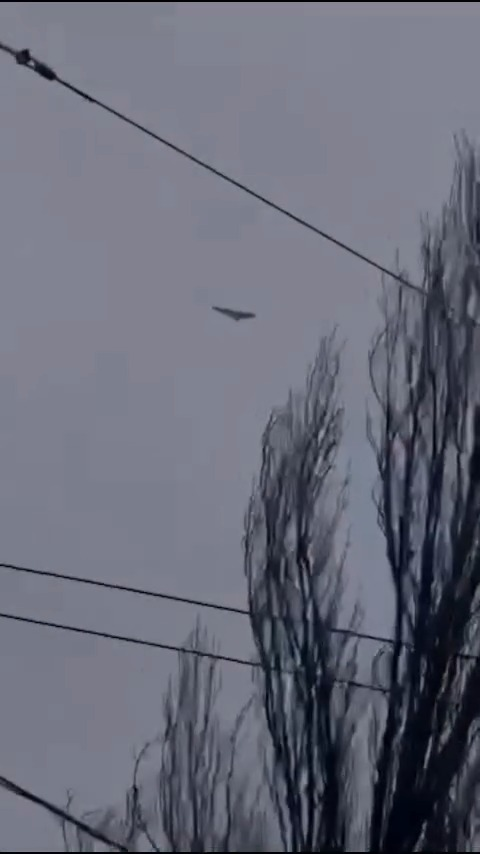shahed: (208, 299, 263, 330)
